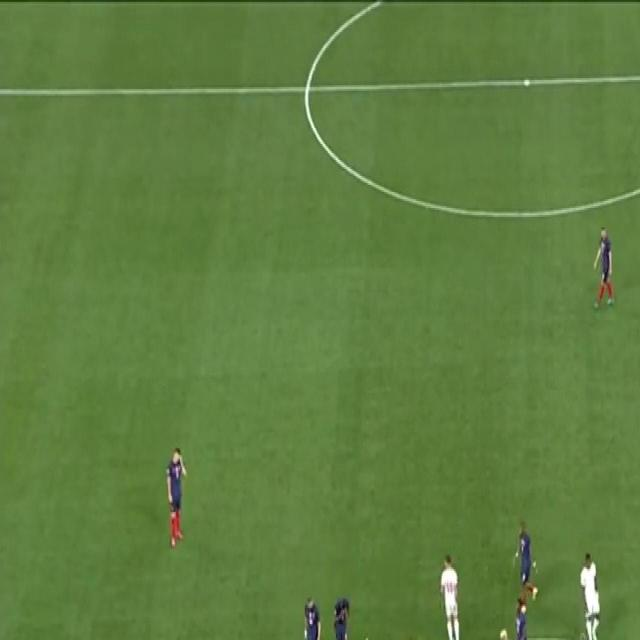player-white: (510, 518, 540, 618), (164, 444, 188, 553), (577, 547, 602, 640), (436, 549, 461, 640), (591, 225, 616, 314), (508, 595, 541, 640), (300, 592, 324, 640), (331, 593, 352, 640), (573, 625, 604, 640), (490, 625, 517, 640), (336, 633, 377, 640), (399, 636, 423, 640)
